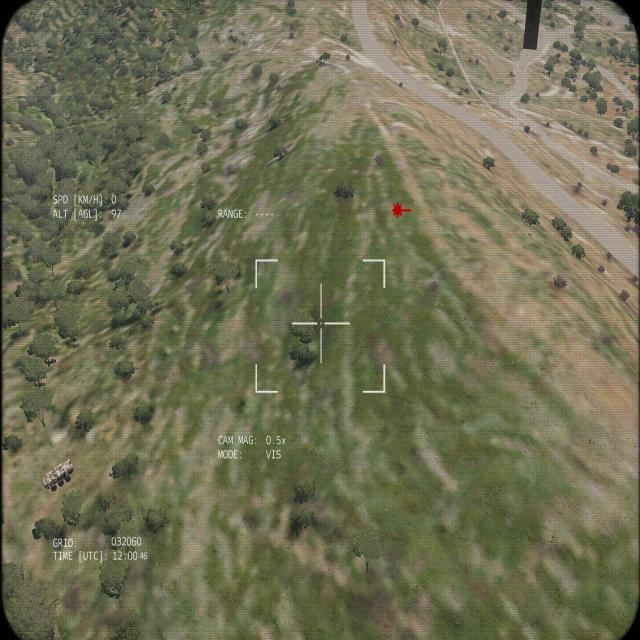apc: (42, 457, 74, 491)
